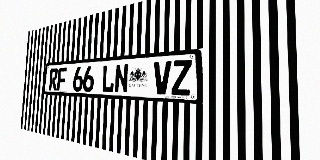6: (72, 66, 84, 92), (83, 66, 94, 92)
F: (57, 68, 67, 91)
L: (101, 64, 115, 93)
N: (114, 64, 129, 93)
R: (49, 68, 58, 91)
V: (153, 61, 171, 95)
Z: (171, 59, 192, 96)
